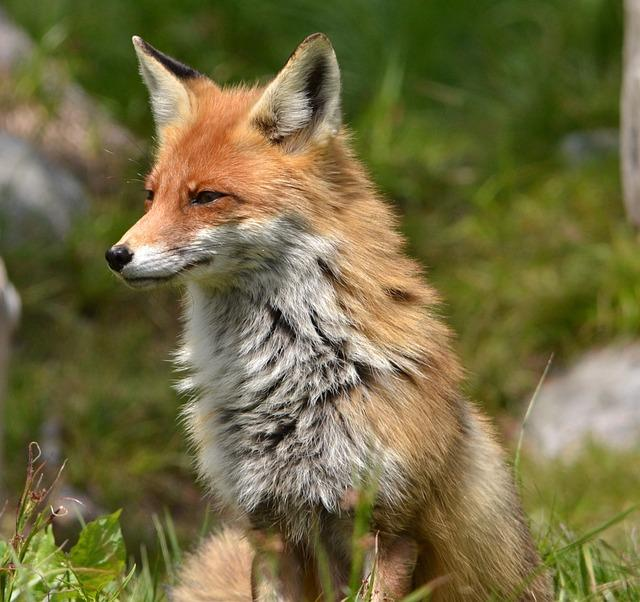fox: (102, 27, 551, 602)
